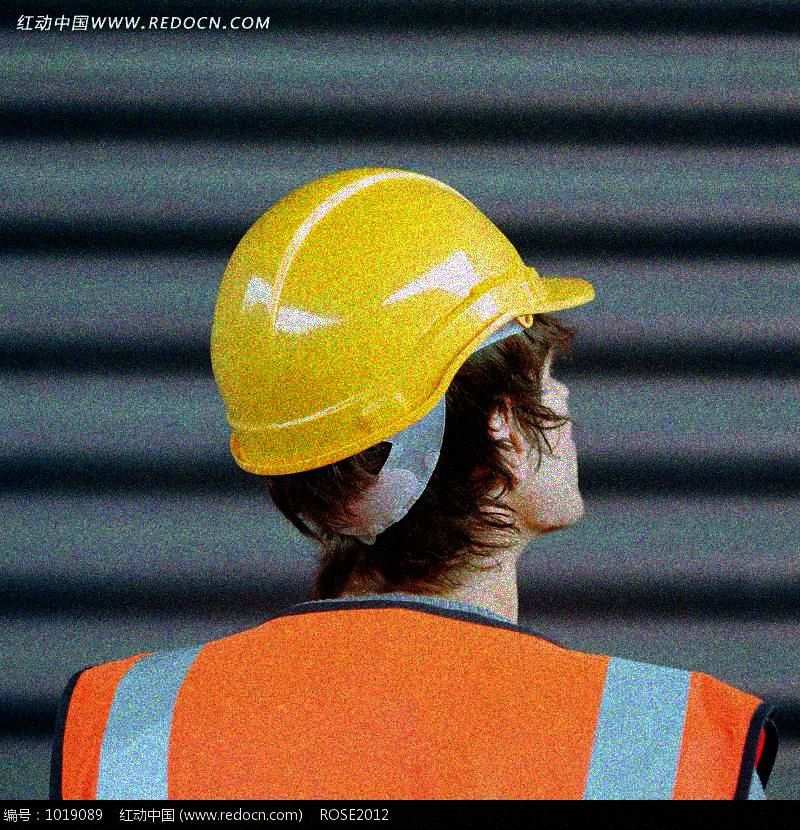helmet: (204, 167, 596, 538)
